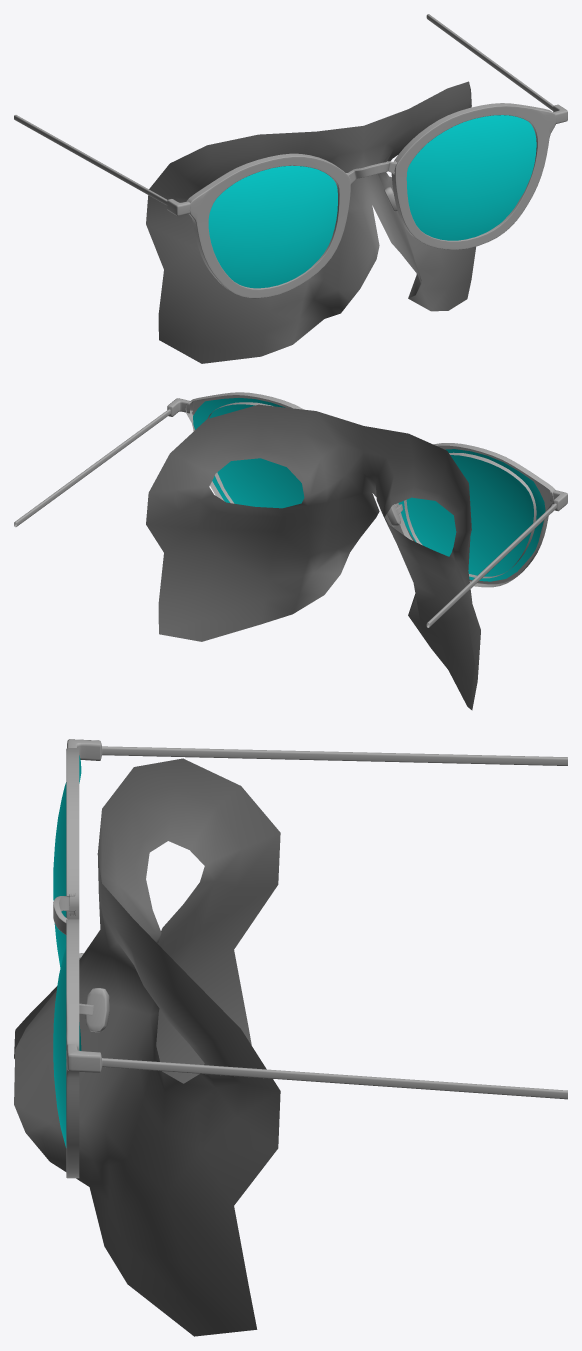
The model's file is glasses_Dior.fbx.
3 renders of one model, top to bottom at view 1: azimuth 30°, elevation 25°; view 2: azimuth 150°, elevation 25°; view 3: azimuth 270°, elevation 25°, orthographic. The views are drawn at different scales.
Visible parts, largest first — view 1: Glasses_Dior, geo_shadow; view 2: geo_shadow, Glasses_Dior; view 3: geo_shadow, Glasses_Dior.
Part boxes in pixels (<box>): Glasses_Dior: <box>14,14,567,298</box>; geo_shadow: <box>146,81,475,363</box>; geo_shadow: <box>146,404,480,710</box>; Glasses_Dior: <box>14,392,567,627</box>; geo_shadow: <box>14,758,280,1336</box>; Glasses_Dior: <box>53,739,567,1178</box>.
Size of the model in its own units: 171 by 91.94 by 120.
